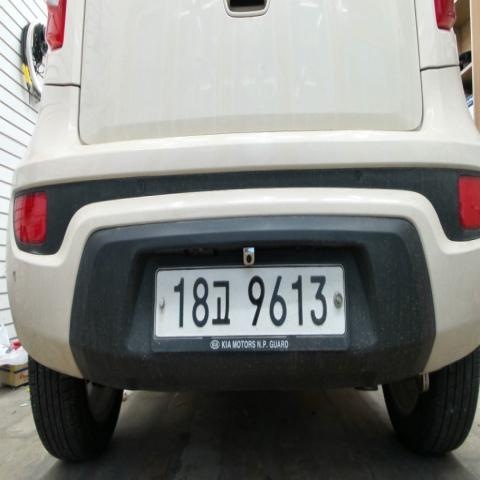LP: (151, 256, 352, 356)
